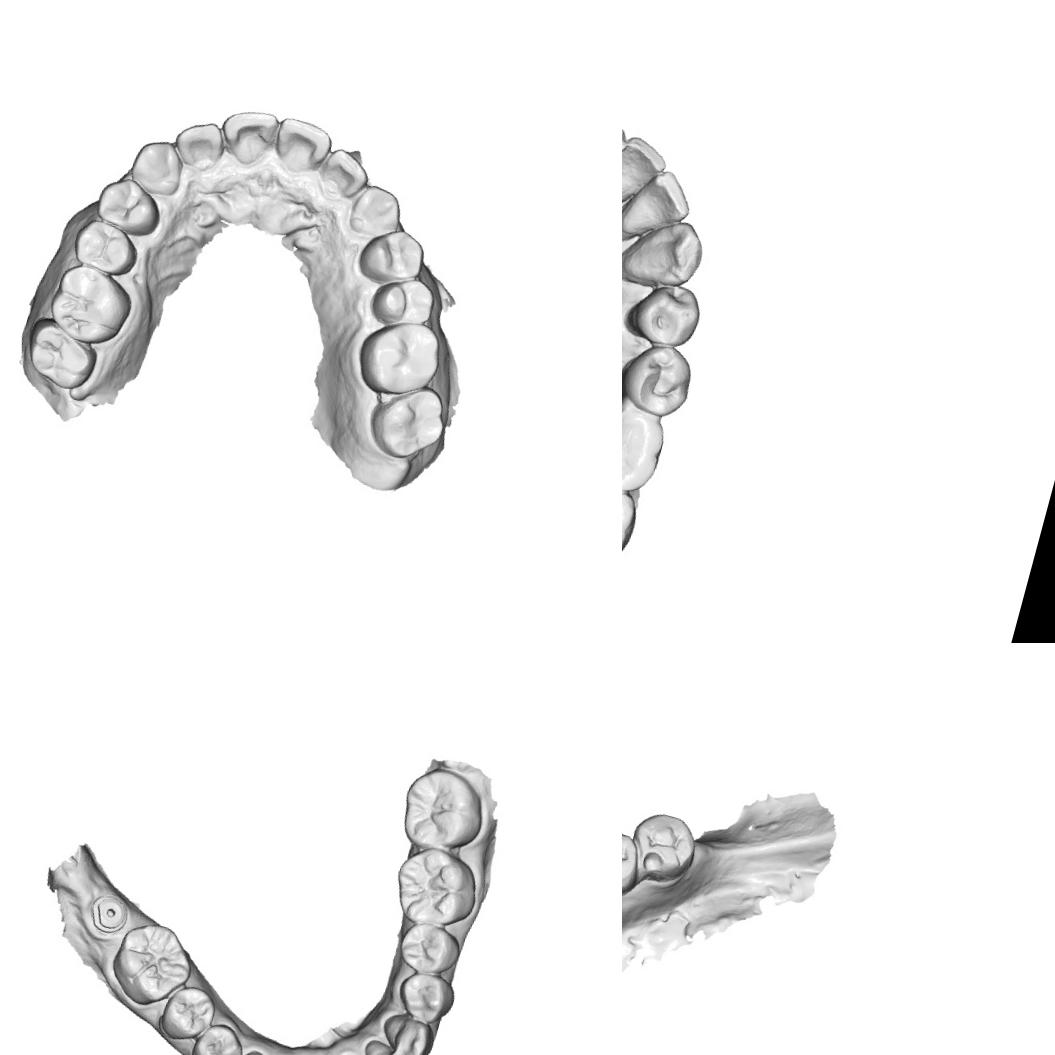canine: (622, 205, 709, 298), (124, 130, 190, 201), (342, 178, 410, 246), (373, 1001, 442, 1055)
implant: (81, 888, 134, 940)
incisor: (622, 161, 697, 245), (267, 113, 338, 184), (210, 100, 280, 172), (622, 128, 673, 216), (312, 141, 375, 207), (167, 112, 231, 175), (354, 1034, 417, 1055)
molar: (102, 912, 202, 1016), (346, 308, 448, 408), (392, 760, 492, 862), (383, 839, 486, 938), (41, 258, 140, 353), (360, 373, 454, 468), (16, 313, 105, 396), (622, 397, 670, 495), (622, 471, 643, 568)
premolar: (622, 270, 706, 356), (622, 805, 702, 890), (622, 334, 699, 422), (350, 216, 432, 294), (90, 170, 169, 241), (65, 214, 145, 282), (366, 267, 440, 335), (152, 978, 220, 1050), (392, 916, 466, 982), (390, 965, 460, 1029), (185, 1014, 250, 1055), (622, 821, 646, 902)
